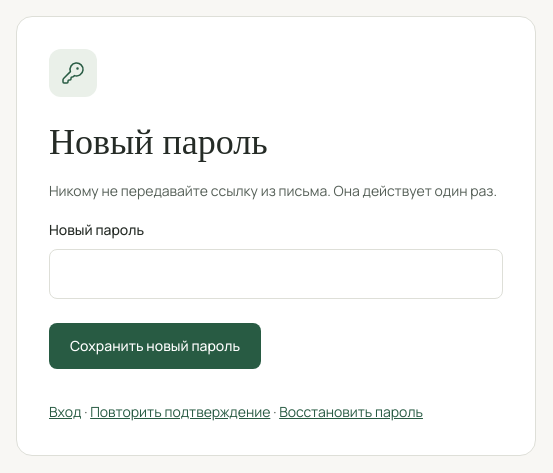
Scenario: восстанавливает пароль по токену
Type "A new password 12345" into the password field labelled "Новый пароль". click: (276, 274)
box: [49,249,503,299]
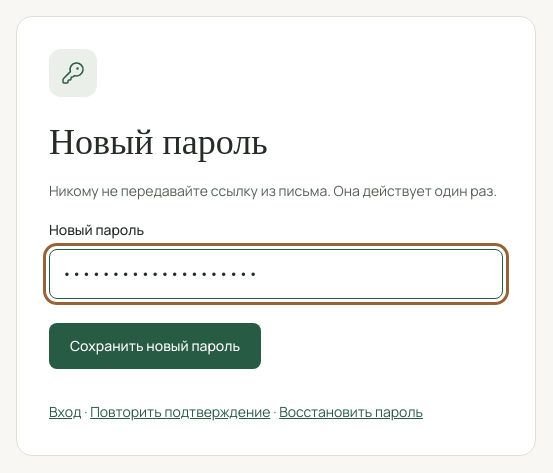
Click the button "Сохранить новый пароль". click: (155, 346)
box: [49,323,261,369]
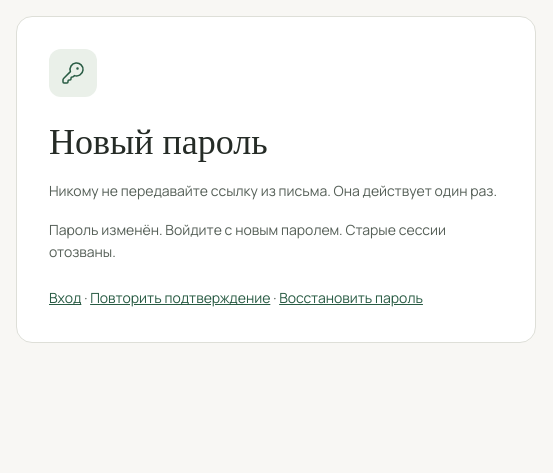
Check: the message shows "Старые сессии отозваны", box [49,220,446,261]
